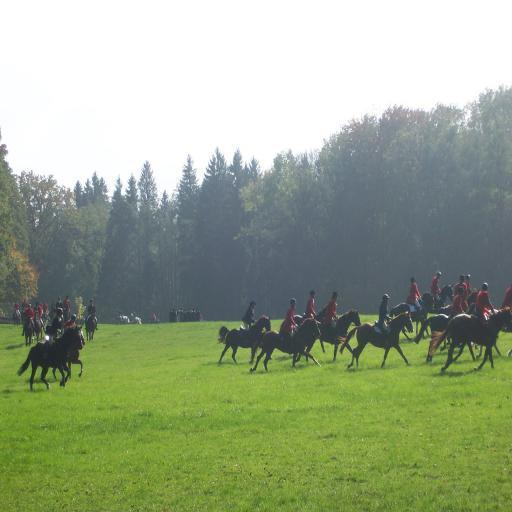horse: (426, 305, 511, 373), (334, 310, 415, 370), (16, 323, 84, 390), (249, 313, 321, 373), (412, 300, 478, 364), (305, 307, 362, 365), (216, 310, 272, 366), (40, 324, 86, 381), (292, 306, 339, 354), (389, 292, 436, 340), (469, 306, 502, 358), (420, 284, 457, 328), (438, 288, 482, 315), (34, 310, 44, 344), (86, 310, 98, 338), (23, 316, 34, 346)
